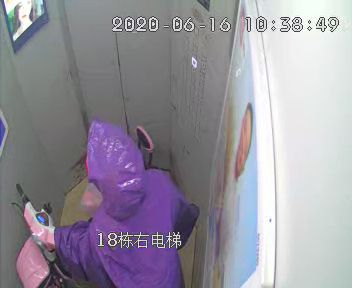Electric-bicycle: (8, 125, 155, 288)
